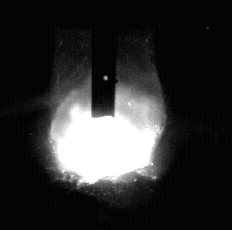arame: (92, 0, 116, 118)
poca: (48, 0, 161, 230)
